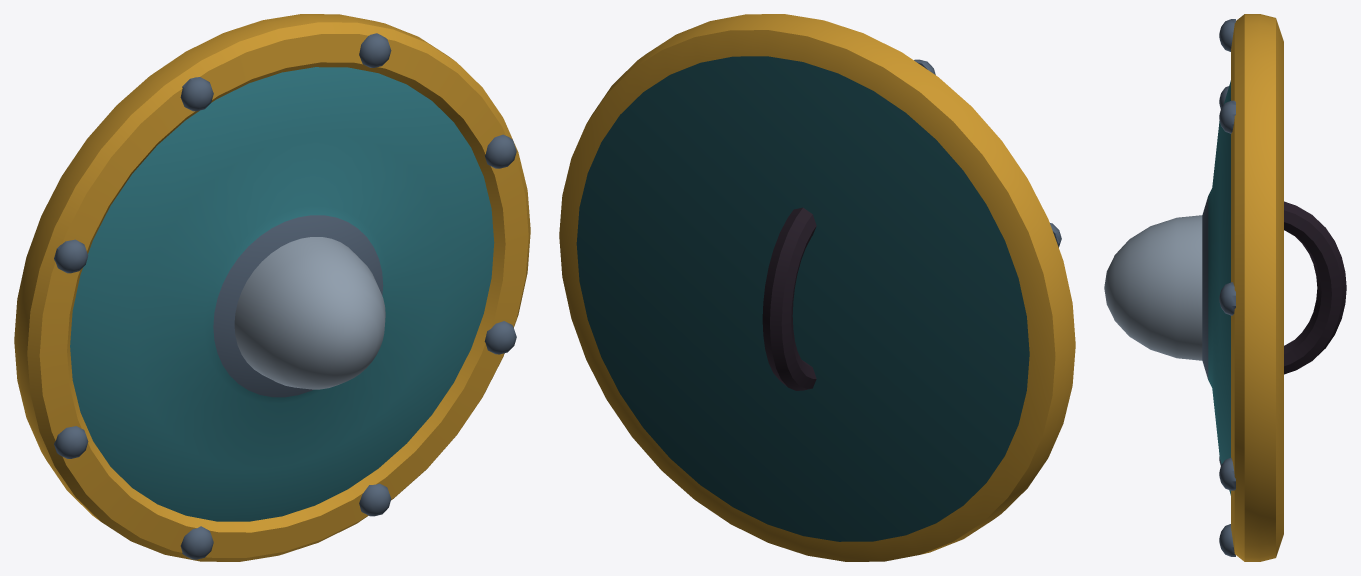
Rendered from RoundShield_08.glb.
3 views of the same model, side by side, from view 1: azimuth 30°, elevation 25°; view 2: azimuth 150°, elevation 25°; view 3: azimuth 270°, elevation 25° (orthographic). The views are drawn at different scales.
Visible parts, largest first — view 1: RoundShield_08; view 2: RoundShield_08; view 3: RoundShield_08.
Boxes of the visible parts, bbox=[...] form: RoundShield_08: bbox=[14, 14, 530, 561]; RoundShield_08: bbox=[559, 14, 1075, 561]; RoundShield_08: bbox=[1104, 14, 1346, 561].
Bounding box in the file's own units: 2.79 × 2.79 × 1.24.
